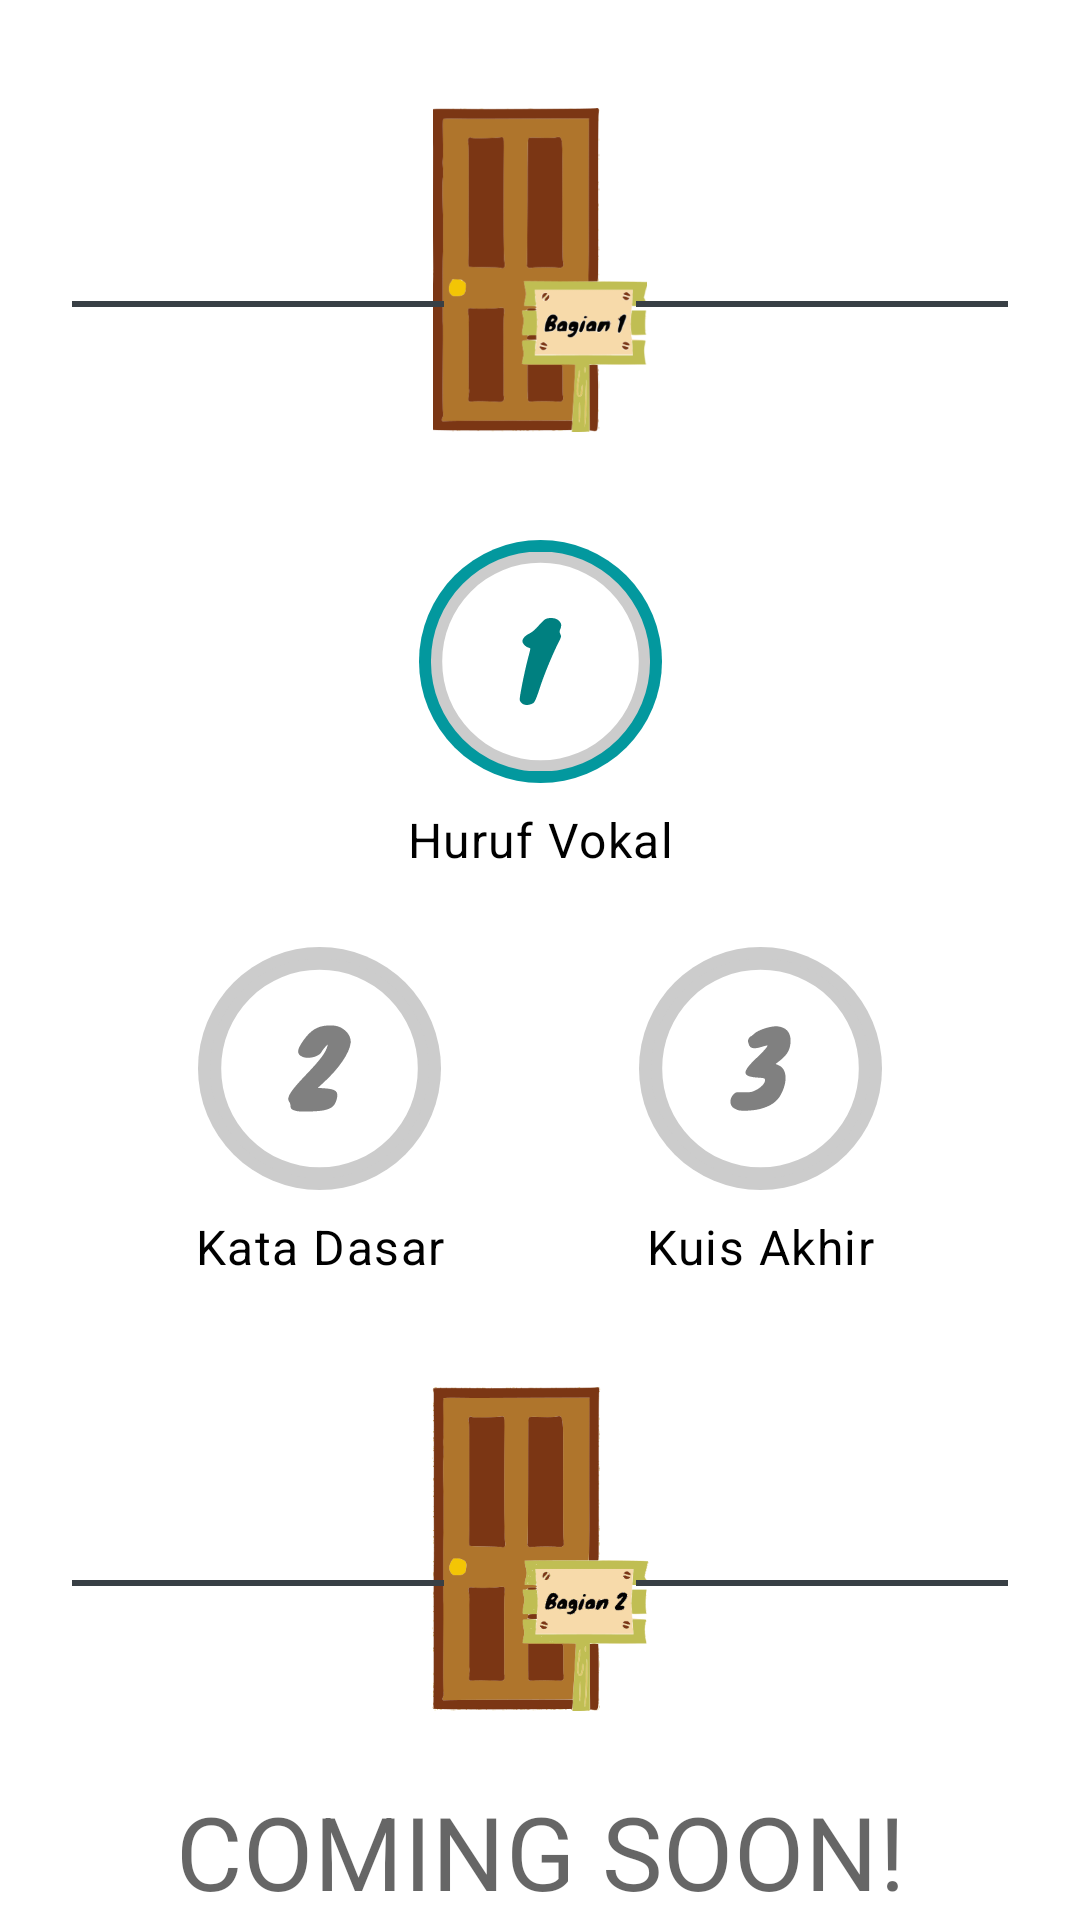

Screen size 1080w x 1920h. Icon name, then its center in pixels as [x,y]:
level: [540,661], [319,1068], [760,1068]
